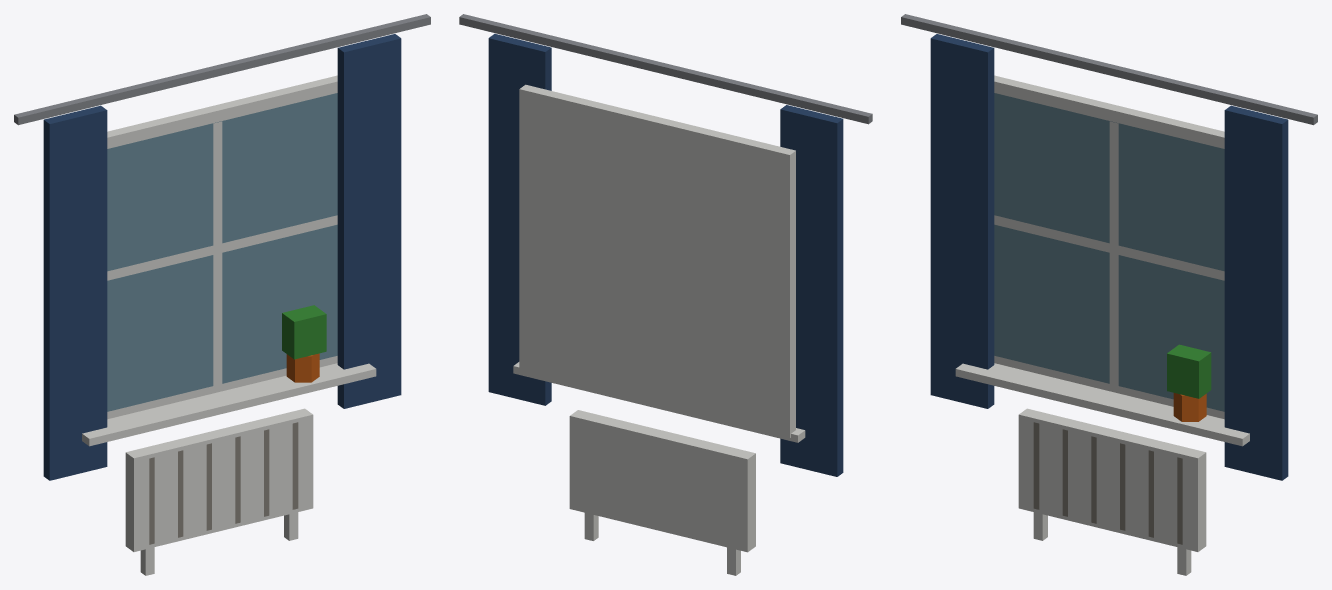
File: prop_window-frame.glb
The picture shows the model from 3 angles, left to right: view 1: azimuth 30°, elevation 25°; view 2: azimuth 150°, elevation 25°; view 3: azimuth 330°, elevation 25°; orthographic projection.
Visible parts, largest first — view 1: body; view 2: body; view 3: body.
Part boxes in pixels (box(x1,y1,x2,y2)): body: box(14, 14, 430, 575); body: box(459, 14, 872, 575); body: box(901, 14, 1317, 575).
Bounding box in the file's own units: 2.3 × 2.62 × 0.21.
